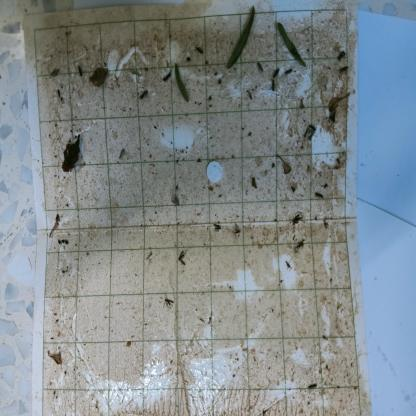prays_oleae: (175, 248, 189, 270), (314, 184, 325, 207), (161, 294, 175, 312), (210, 217, 224, 235), (306, 376, 320, 393), (295, 236, 307, 254), (116, 147, 130, 162), (290, 212, 302, 229), (232, 222, 244, 239), (161, 70, 173, 87), (139, 87, 150, 103), (271, 61, 281, 78), (336, 46, 346, 61), (269, 78, 277, 94), (284, 67, 294, 79)
